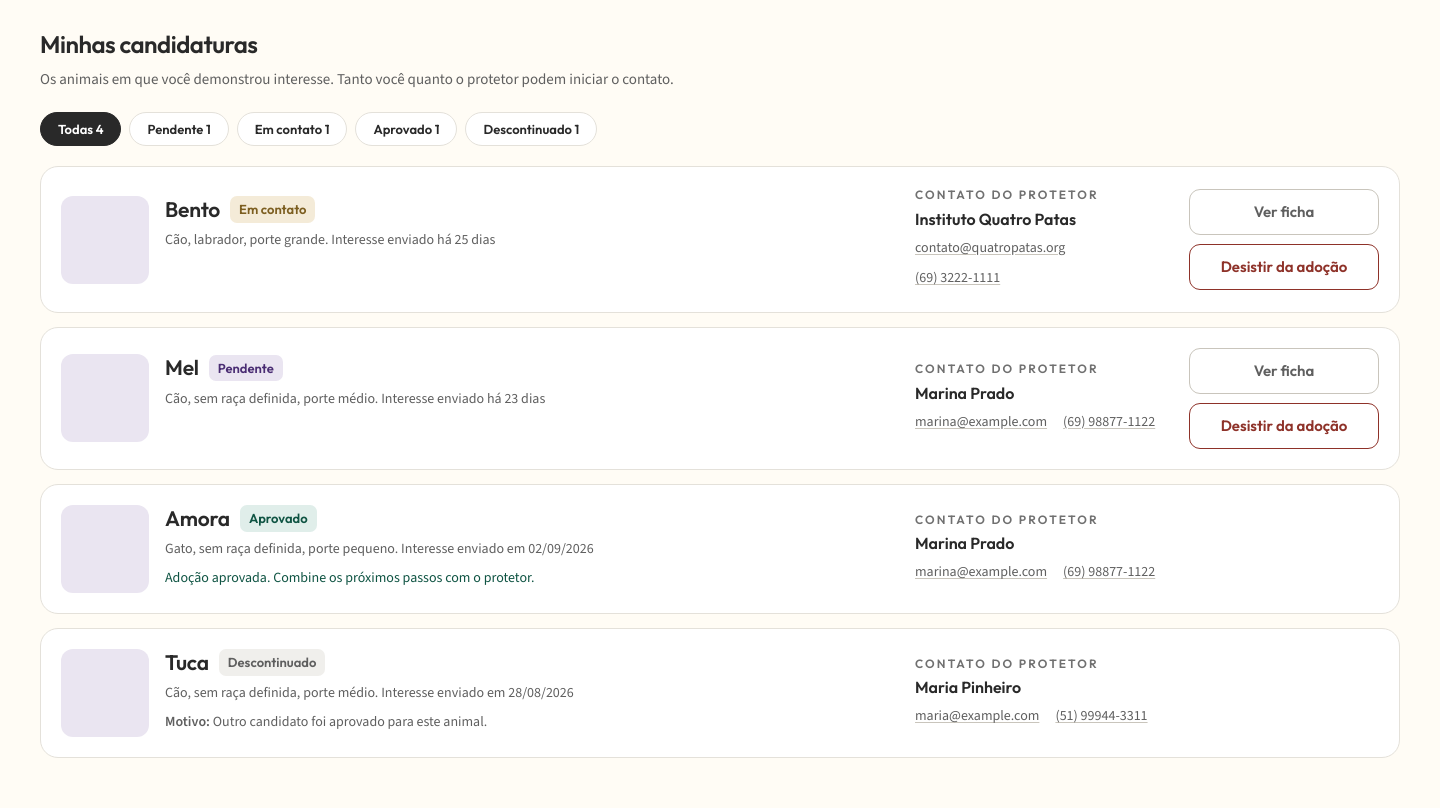
desistir › se a API recusar, mostra o motivo e o cartão continua
This screenshot has width=1440, height=808.
Expected: the heading "Mel" is shown, [165, 354, 199, 382]
Click the button with aria-label "Desistir da adoção de Mel" at [1284, 426], box [1189, 403, 1379, 449]
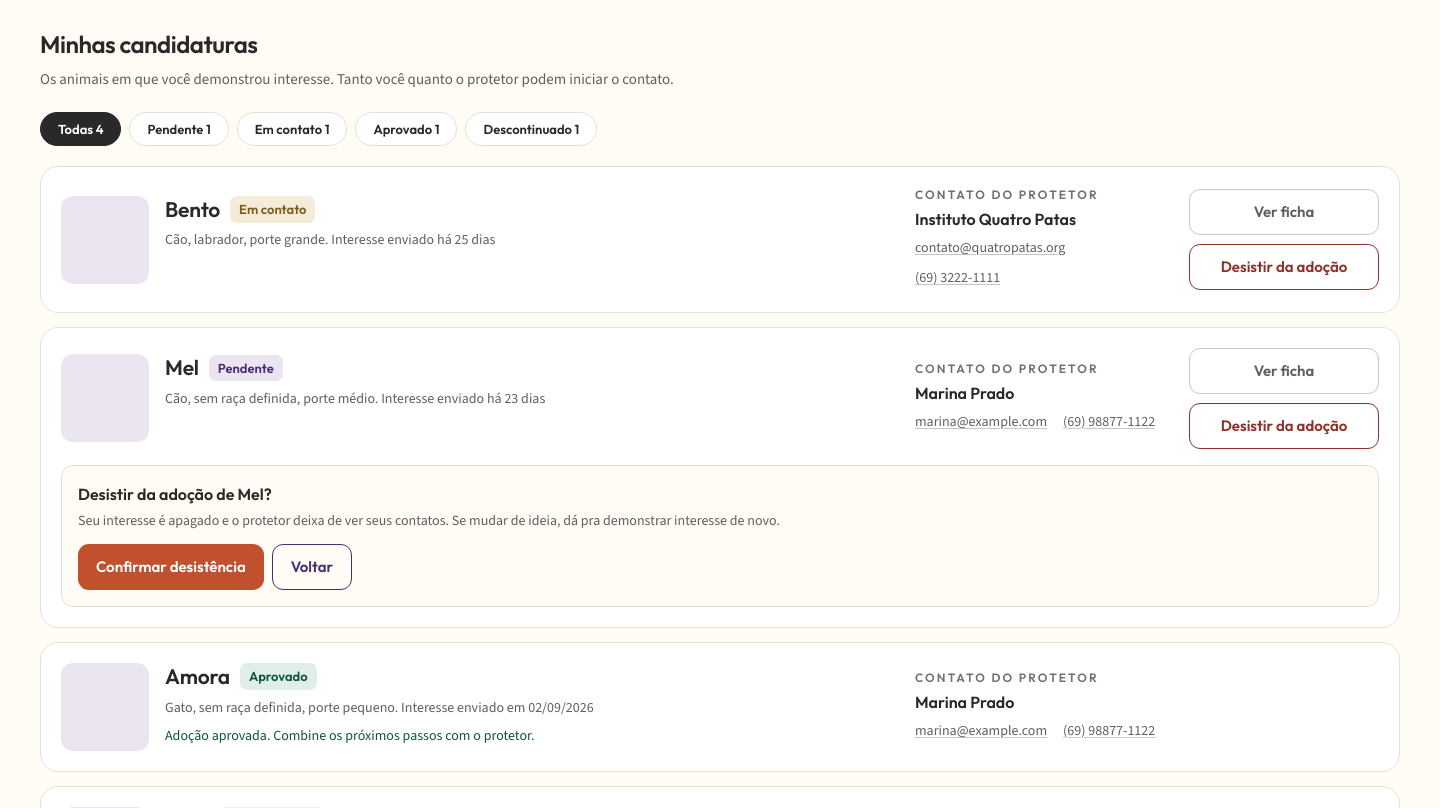
Click the button "Confirmar desistência" at [171, 567], box [78, 544, 264, 590]
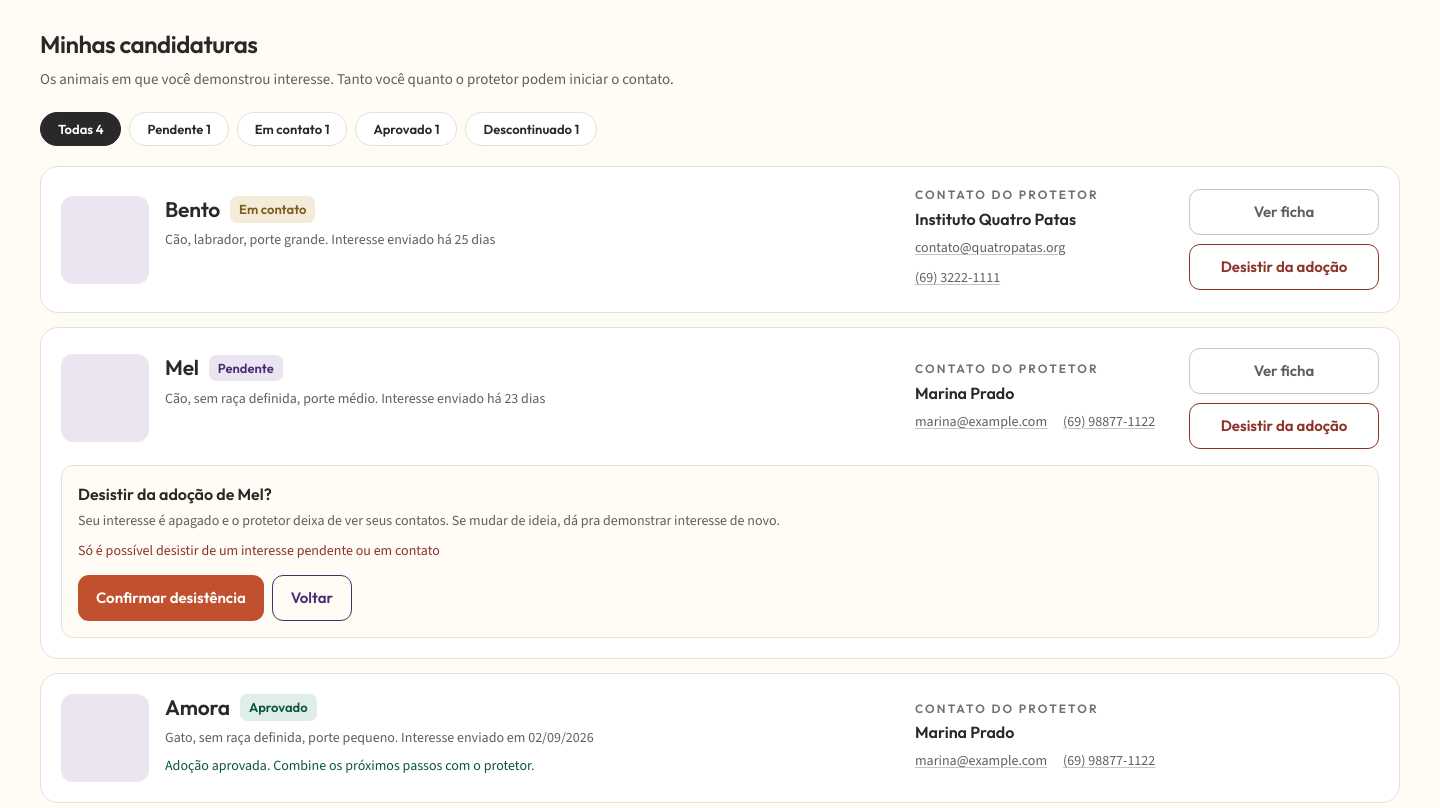
Now the button "Confirmar desistência" is enabled, box [78, 575, 264, 621]
Now the message reads "Só é possível desistir de um interesse pendente ou em contato", box [78, 541, 440, 560]
